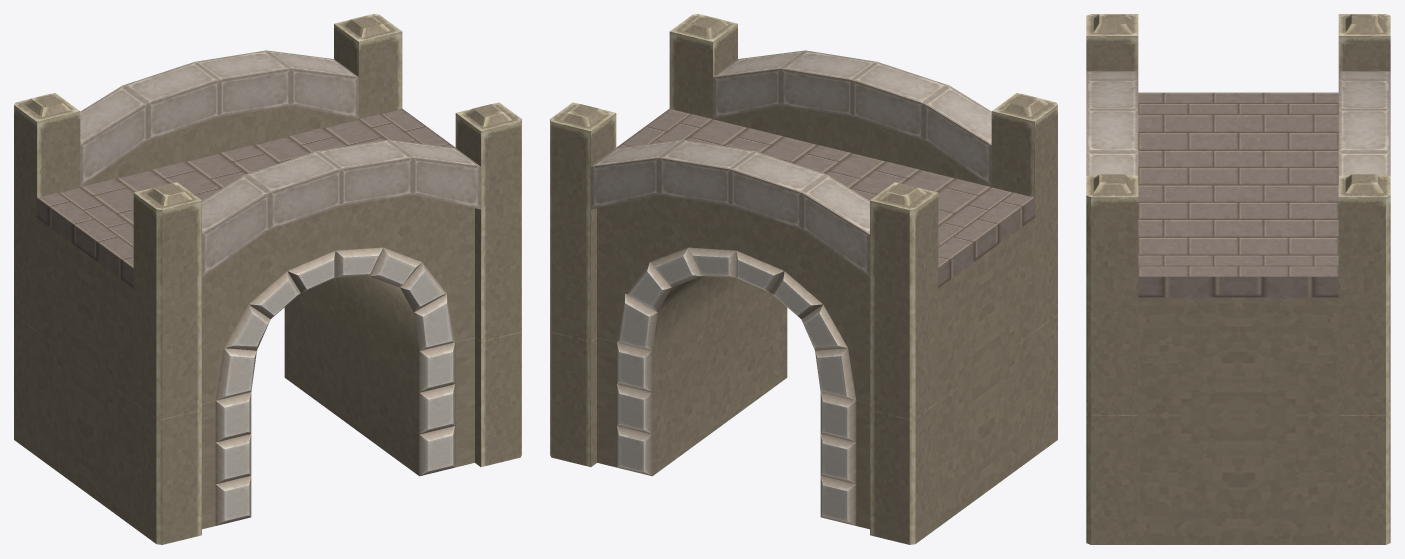
Rendered from Bridge2.fbx.
3 views of the same model, side by side, from view 1: azimuth 30°, elevation 25°; view 2: azimuth 150°, elevation 25°; view 3: azimuth 270°, elevation 25° (orthographic). The views are drawn at different scales.
Visible parts, largest first — view 1: Bridge2; view 2: Bridge2; view 3: Bridge2.
Part boxes in pixels (left/top/right/bottom): Bridge2: left=14, top=14, right=521, bottom=544; Bridge2: left=550, top=14, right=1057, bottom=544; Bridge2: left=1086, top=14, right=1390, bottom=544.
Size of the model in its own units: 3.05 by 2.73 by 2.13.
